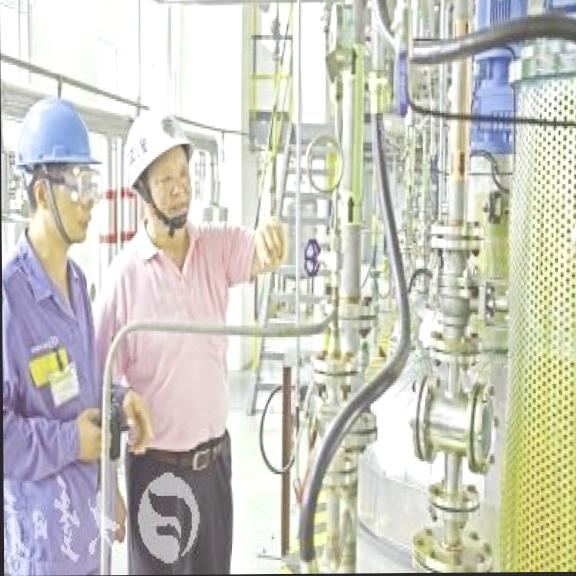no_safety_vest: (2, 241, 112, 570), (91, 221, 247, 450)
